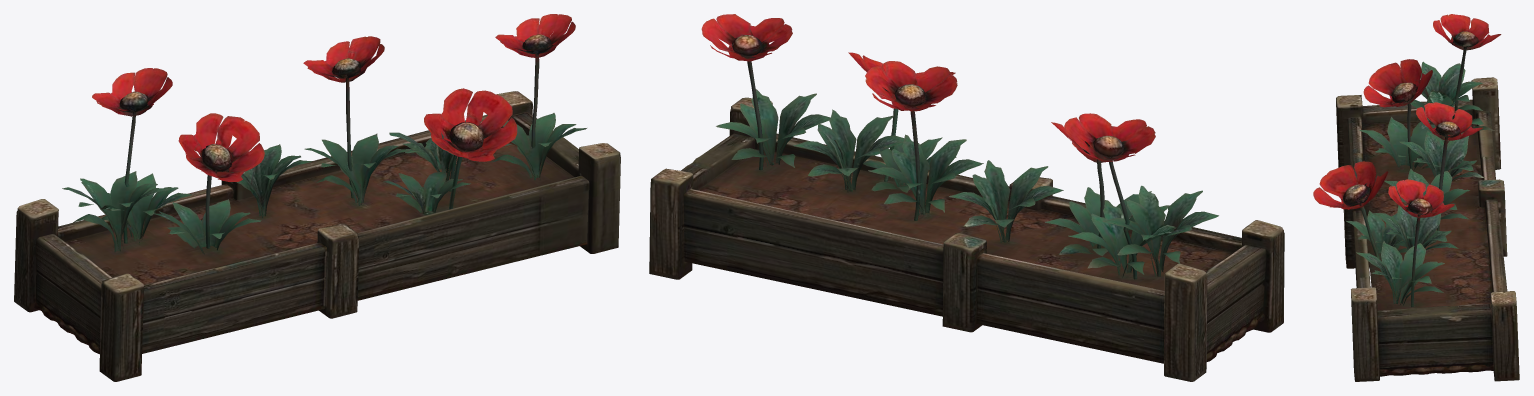
File: act1-a13-6-poppy-furrow.glb
The picture shows the model from 3 angles, left to right: view 1: azimuth 30°, elevation 25°; view 2: azimuth 150°, elevation 25°; view 3: azimuth 270°, elevation 25°; orthographic projection. The views are drawn at different scales.
Visible parts, largest first — view 1: act1-a13-6-poppy-furrow; view 2: act1-a13-6-poppy-furrow; view 3: act1-a13-6-poppy-furrow.
Part boxes in pixels (left/top/right/bottom): act1-a13-6-poppy-furrow: left=14, top=14, right=620, bottom=381; act1-a13-6-poppy-furrow: left=649, top=14, right=1284, bottom=381; act1-a13-6-poppy-furrow: left=1313, top=14, right=1519, bottom=381.
Bounding box in the file's own units: 4.32 × 1.76 × 1.75.
Materials: 1 (1 with a texture image).
